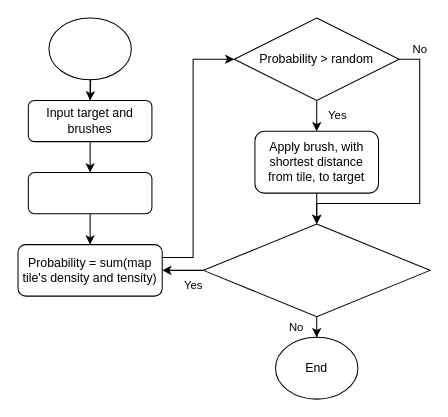
Image size: 448x417. Some labels were removed from this diagram. Here are the shapes that lost their labels. From the top down, the centre of each, then its label:
At point 89,48: "Start".
At point 89,192: "Generate probability map from target".
At point 316,270: "Is there a next tile in the map?".
